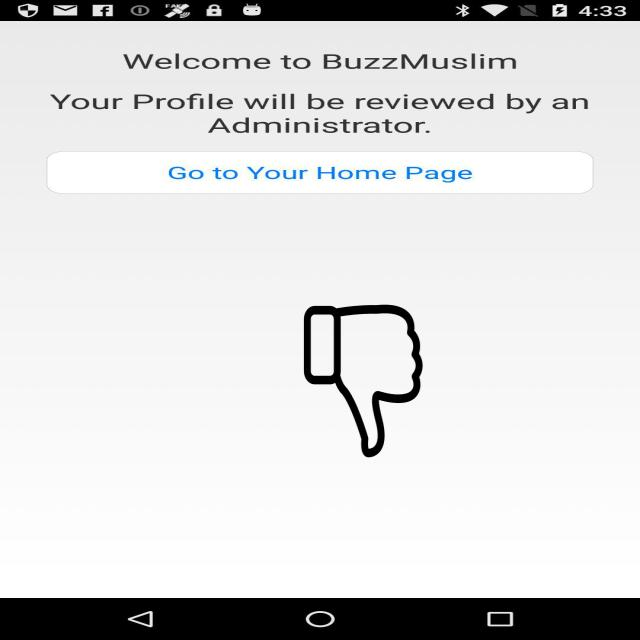obstruction: (302, 305, 424, 457)
